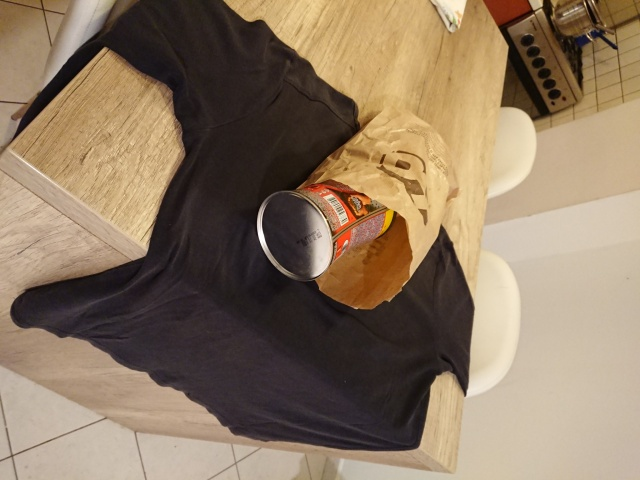Nescafe Classic 225g: (252, 160, 399, 285)
